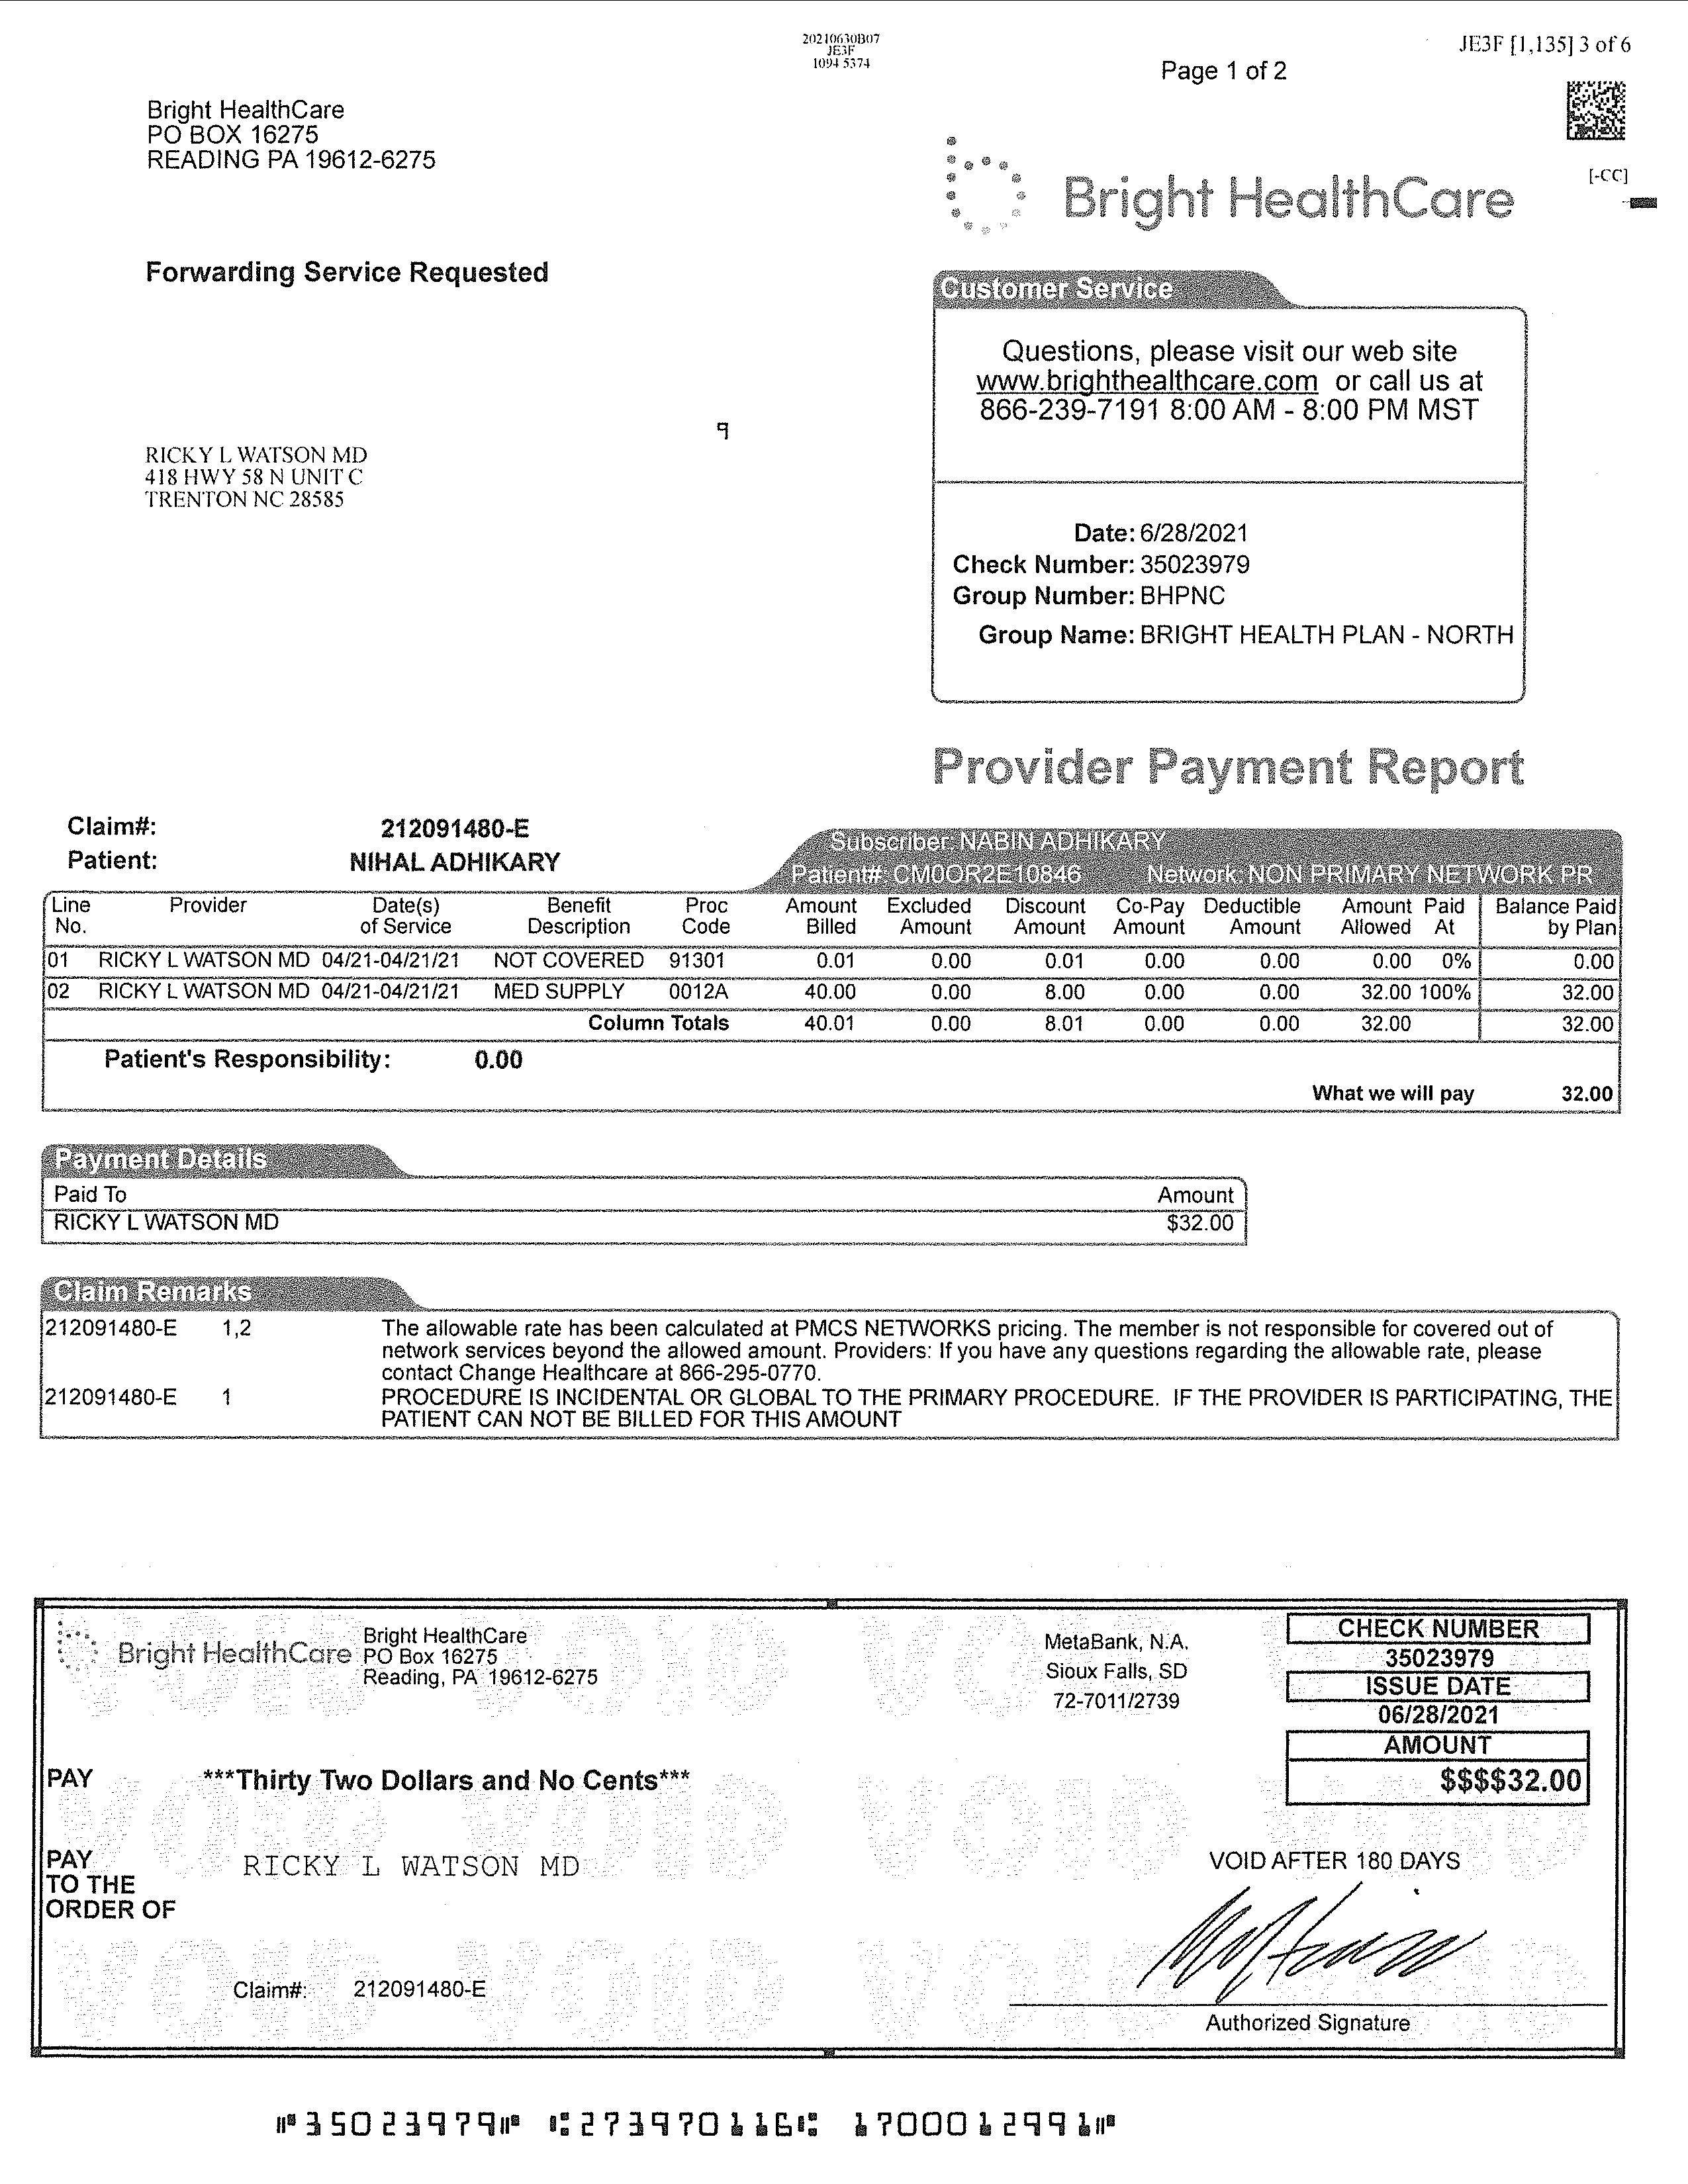data: (920, 255, 1537, 721), (55, 798, 571, 883)
table: (21, 885, 1622, 1129)
